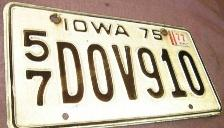0: (85, 42, 117, 103), (178, 48, 209, 98)
1: (157, 47, 189, 99)
9: (134, 46, 167, 99)
D: (54, 40, 87, 105)
V: (110, 44, 142, 102)
